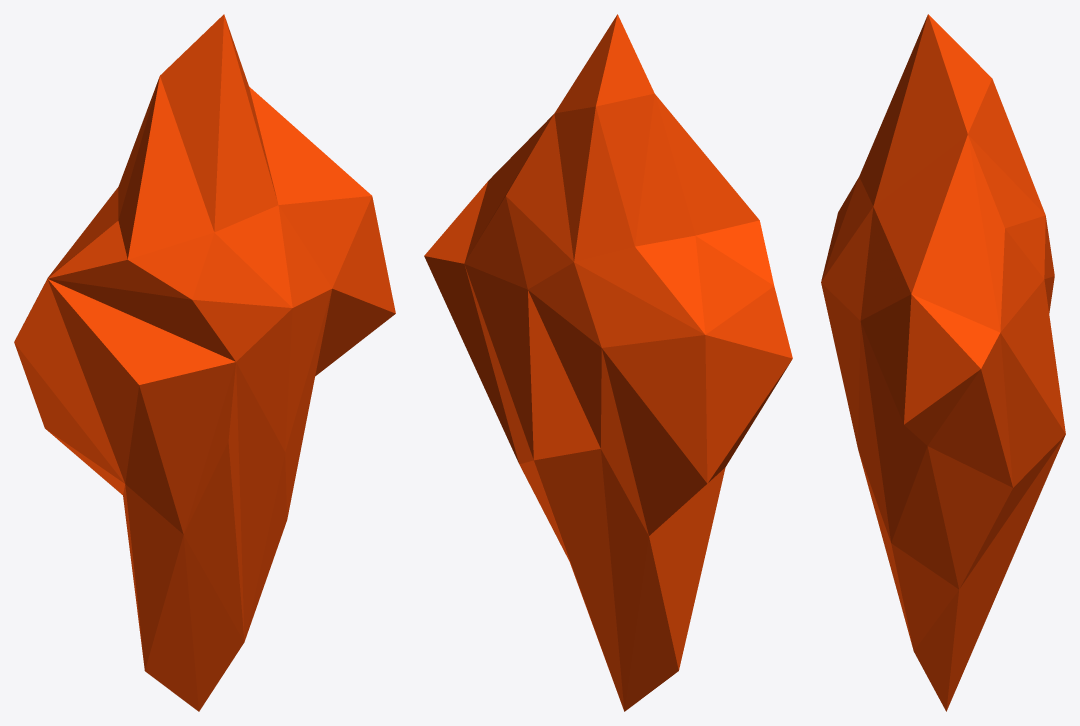
Rendered from Crystal_046.fbx.
3 views of the same model, side by side, from view 1: azimuth 30°, elevation 25°; view 2: azimuth 150°, elevation 25°; view 3: azimuth 270°, elevation 25° (orthographic). The views are drawn at different scales.
Parts seen in each view (by area): view 1: Crystal.046; view 2: Crystal.046; view 3: Crystal.046.
Boxes of the visible parts, x1=… form: Crystal.046: x1=14, y1=14, x2=395, y2=711; Crystal.046: x1=424, y1=14, x2=792, y2=711; Crystal.046: x1=821, y1=14, x2=1065, y2=711.
Bounding box in the file's own units: 304 × 557 × 175.
